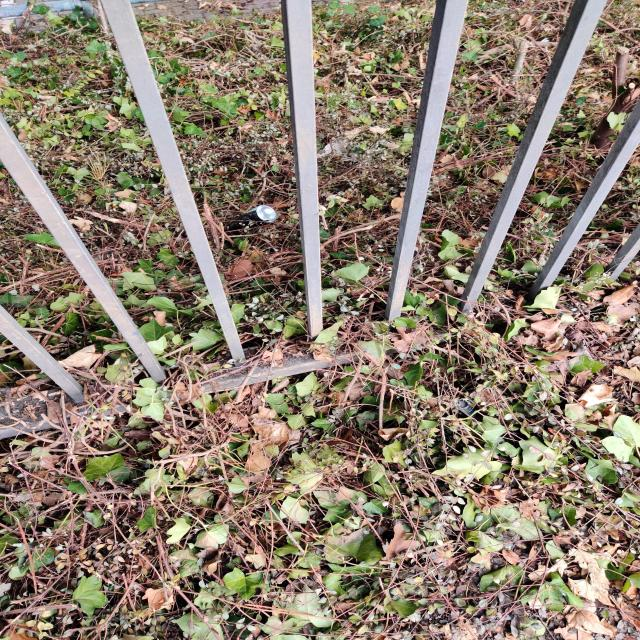litter: (237, 199, 271, 225)
